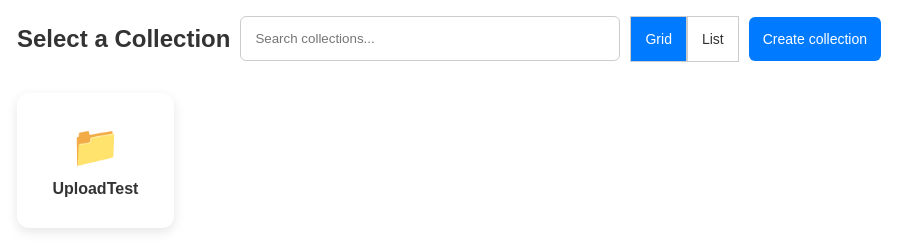
Test: FilesList › shows upload button when user role is not READ
Click the text "UploadTest": x=95, y=189 52,180 -> 138,198
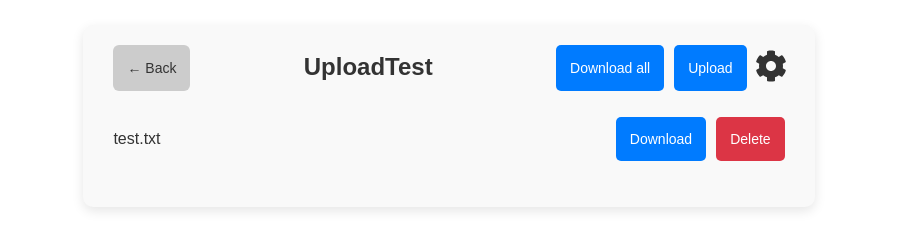
Expected: the button "Upload" is shown, 674,45 -> 747,91
